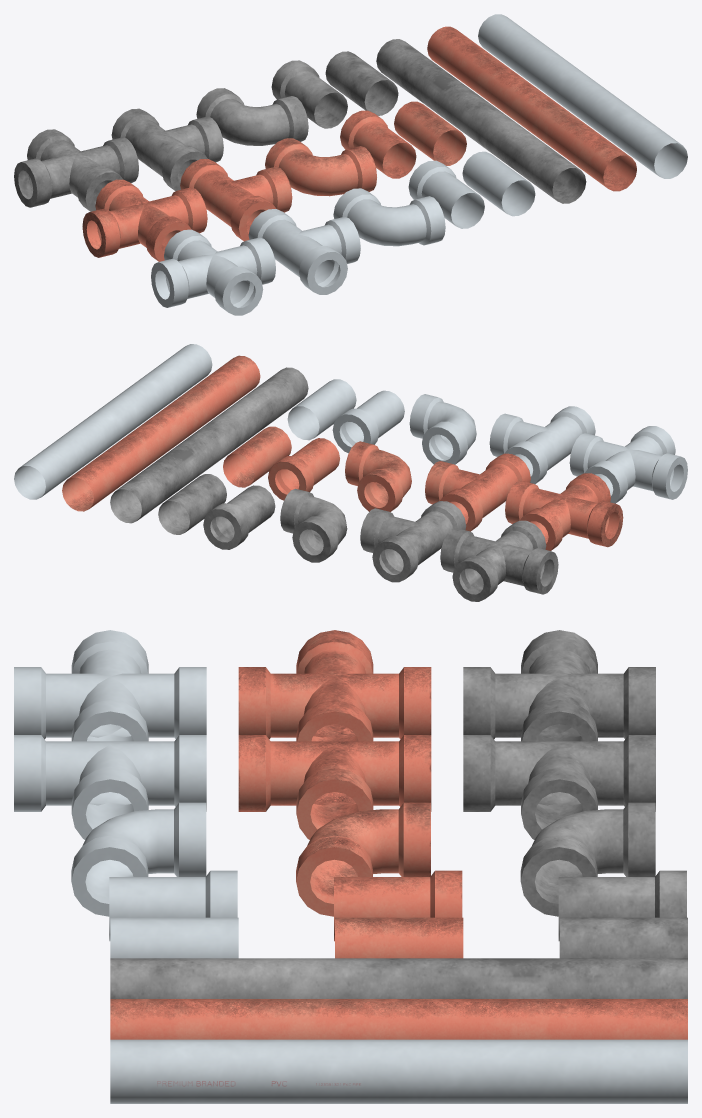
The model's file is pipe_pack.glb.
3 views of the same model, one above another, from view 1: azimuth 30°, elevation 25°; view 2: azimuth 150°, elevation 25°; view 3: azimuth 270°, elevation 25° (orthographic). The views are drawn at different scales.
Parts seen in each view (by area): view 1: Pipe_long.001, Pipe_long.002, Pipe_long, Pipe_4way, Pipe_4way.001, Pipe_4way.002, Pipe_3way, Pipe_3way.001, Pipe_3way.002, Pipe_bend, Pipe_bend.002, Pipe_bend.001 (+6 smaller); view 2: Pipe_long.001, Pipe_long, Pipe_long.002, Pipe_4way.002, Pipe_4way, Pipe_4way.001, Pipe_3way.002, Pipe_3way, Pipe_3way.001, Pipe_bend.002, Pipe_bend, Pipe_bend.001 (+6 smaller); view 3: Pipe_long, Pipe_long.001, Pipe_long.002, Pipe_4way.001, Pipe_4way, Pipe_4way.002, Pipe_3way.001, Pipe_3way, Pipe_3way.002, Pipe_bend, Pipe_bend.002, Pipe_bend.001 (+6 smaller).
Boxes of the visible parts, box(x1,y1,x2,y2) form: Pipe_long.001: box(427, 26, 636, 191); Pipe_long.002: box(376, 39, 586, 203); Pipe_long: box(478, 14, 687, 178); Pipe_4way: box(151, 229, 275, 315); Pipe_4way.001: box(82, 179, 207, 261); Pipe_4way.002: box(14, 129, 138, 211); Pipe_3way: box(248, 209, 360, 294); Pipe_3way.001: box(180, 159, 292, 241); Pipe_3way.002: box(111, 108, 223, 191); Pipe_bend: box(333, 188, 445, 246); Pipe_bend.002: box(196, 88, 308, 145); Pipe_bend.001: box(265, 138, 376, 196); Pipe_long.001: box(62, 355, 260, 511); Pipe_long: box(14, 344, 212, 499); Pipe_long.002: box(110, 367, 308, 523); Pipe_4way.002: box(440, 520, 558, 601); Pipe_4way: box(569, 426, 687, 503); Pipe_4way.001: box(505, 473, 623, 550); Pipe_3way.002: box(360, 501, 466, 582); Pipe_3way: box(489, 406, 595, 484); Pipe_3way.001: box(425, 453, 530, 531); Pipe_bend.002: box(280, 488, 347, 562); Pipe_bend: box(409, 394, 476, 464); Pipe_bend.001: box(345, 441, 411, 511); Pipe_long: box(110, 1039, 687, 1103); Pipe_long.001: box(110, 999, 687, 1039); Pipe_long.002: box(110, 958, 687, 998); Pipe_4way.001: box(238, 630, 431, 741); Pipe_4way: box(14, 630, 206, 741); Pipe_4way.002: box(463, 630, 655, 741); Pipe_3way.001: box(238, 735, 431, 839); Pipe_3way: box(14, 735, 206, 839); Pipe_3way.002: box(463, 735, 655, 839); Pipe_bend: box(71, 802, 206, 916); Pipe_bend.002: box(520, 802, 655, 916); Pipe_bend.001: box(296, 802, 430, 916).
Size of the model in its own units: 31 by 2.4 by 21.
Materials: 3 (3 with a texture image).
